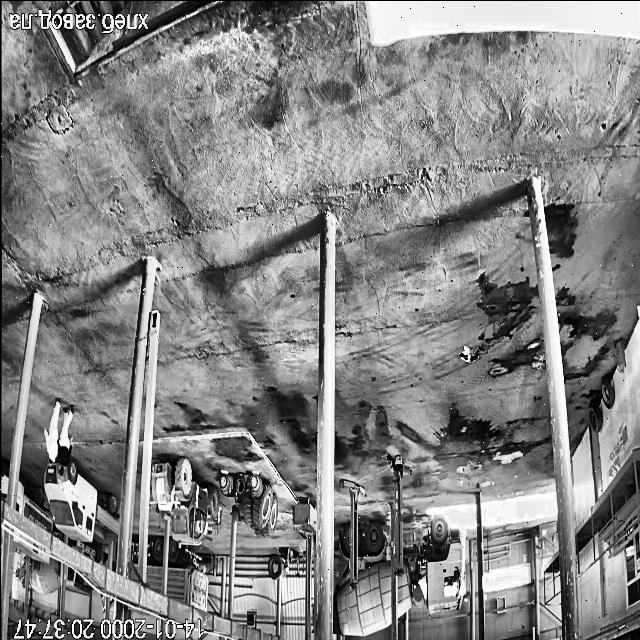class4: (56, 404, 73, 475), (44, 398, 60, 463)
class6: (151, 458, 221, 546), (220, 474, 278, 537)
class7: (396, 516, 464, 614), (334, 523, 392, 636), (44, 460, 119, 540), (167, 540, 208, 612), (16, 482, 52, 532), (29, 559, 60, 595), (146, 538, 164, 591), (12, 538, 48, 562), (66, 567, 92, 595), (69, 543, 104, 563), (130, 543, 140, 580), (0, 463, 8, 500), (16, 564, 24, 587)
tractor: (616, 340, 624, 372)
truck: (388, 455, 411, 574), (340, 479, 365, 588)
